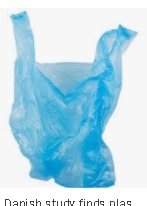kantong: (9, 9, 139, 188)
